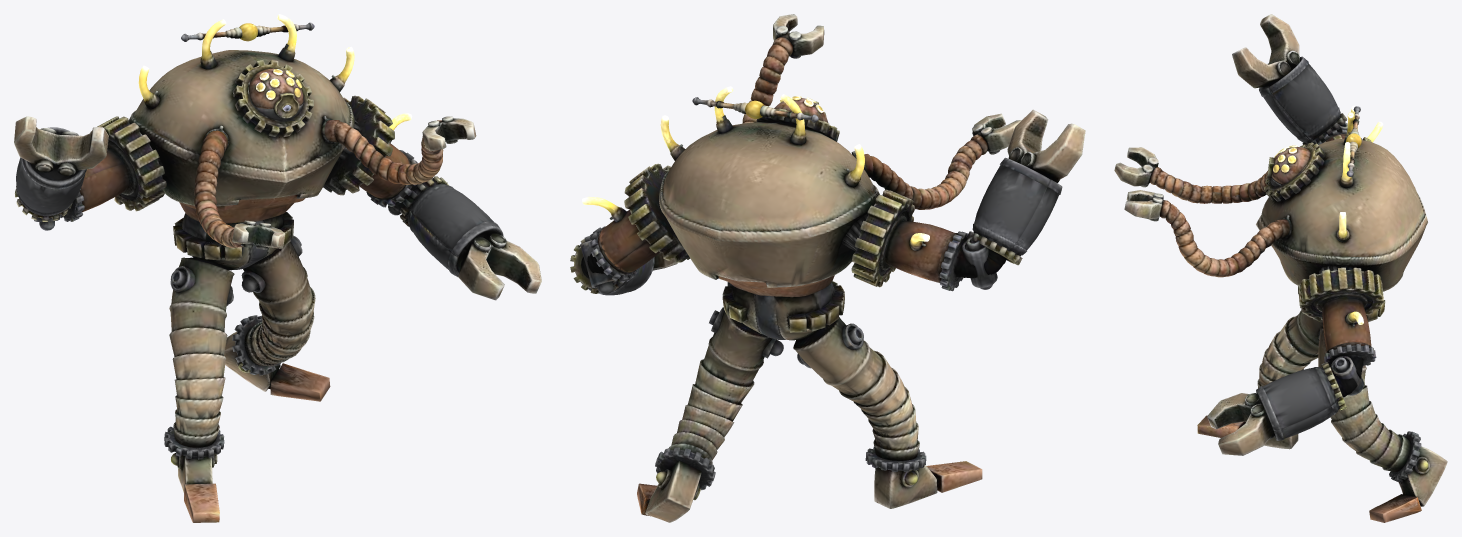
The model's file is MZ4250 - Hexton.glb.
3 renders of one model, left to right at view 1: azimuth 30°, elevation 25°; view 2: azimuth 150°, elevation 25°; view 3: azimuth 270°, elevation 25°, orthographic. The views are drawn at different scales.
Visible parts, largest first — view 1: ORGANIC BASE SPHERE.001; view 2: ORGANIC BASE SPHERE.001; view 3: ORGANIC BASE SPHERE.001.
Boxes of the visible parts, x1,y1,x2,y2 form: ORGANIC BASE SPHERE.001: [14, 14, 541, 522]; ORGANIC BASE SPHERE.001: [570, 14, 1085, 522]; ORGANIC BASE SPHERE.001: [1114, 14, 1447, 522].
Size of the model in its own units: 295 by 234 by 196.
Materials: 1 (1 with a texture image).
